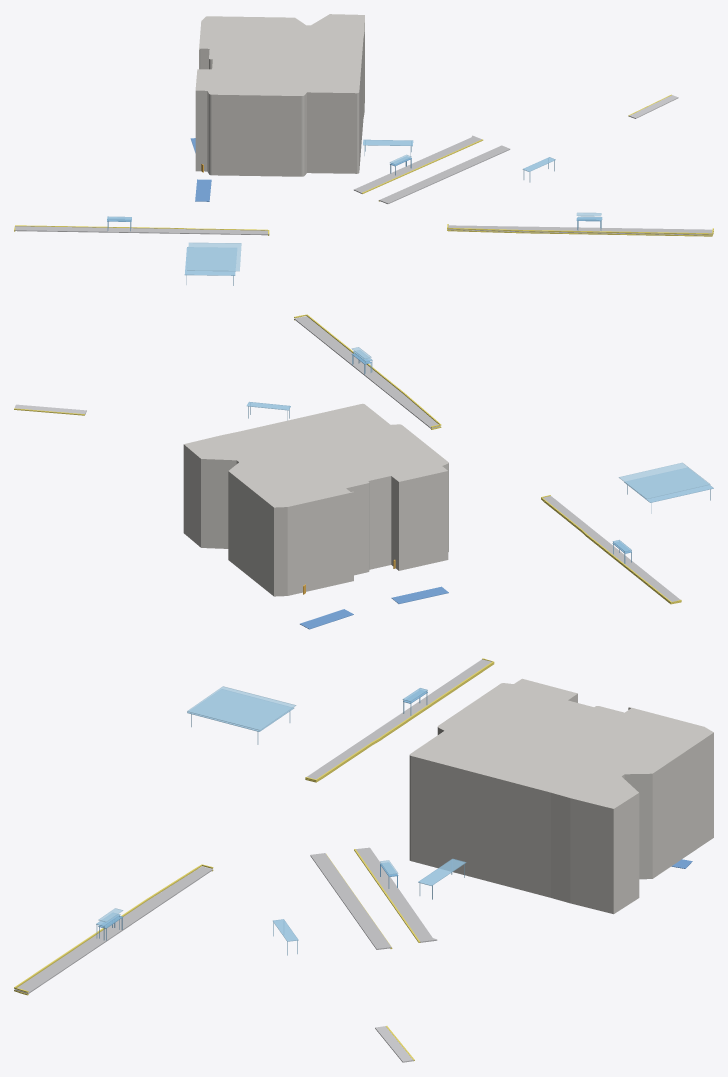
Rendered from 8507050-bern-egghoelzli.glb.
3 views of the same model, one above another, from view 1: azimuth 30°, elevation 25°; view 2: azimuth 150°, elevation 25°; view 3: azimuth 270°, elevation 25° (orthographic). The views are drawn at different scales.
Visible parts, largest first — view 1: building_part@x, platform_surface@0, canopy@0, boarding_edge@0, roof@0; view 2: building_part@x, platform_surface@0, canopy@0, roof@0, boarding_edge@0, passage@-2; view 3: building_part@x, platform_surface@0, canopy@0, roof@0, boarding_edge@0.
Part boxes in pixels (x1,y1,x2,y2): building_part@x: (195, 14, 364, 176); platform_surface@0: (15, 135, 712, 235); canopy@0: (107, 139, 602, 285); boarding_edge@0: (14, 94, 713, 236); roof@0: (187, 154, 601, 271); building_part@x: (183, 403, 448, 596); platform_surface@0: (294, 316, 680, 601); canopy@0: (246, 350, 713, 563); roof@0: (351, 347, 710, 499); boarding_edge@0: (14, 314, 681, 604); passage@-2: (300, 586, 448, 629); building_part@x: (409, 678, 713, 914); platform_surface@0: (14, 659, 491, 993); canopy@0: (96, 688, 466, 955); roof@0: (98, 686, 398, 922); boarding_edge@0: (14, 658, 494, 1060).
Bounding box in the file's own units: 202 × 33.62 × 148.
